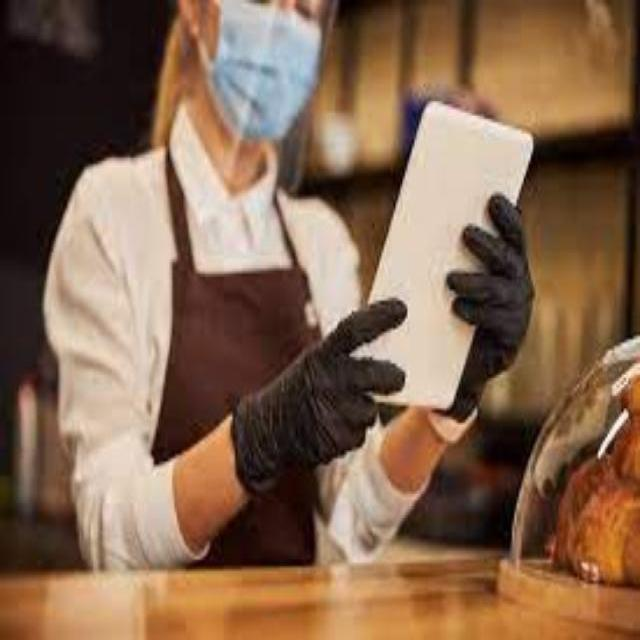gloved_hand: (230, 291, 398, 470), (446, 175, 533, 428)
